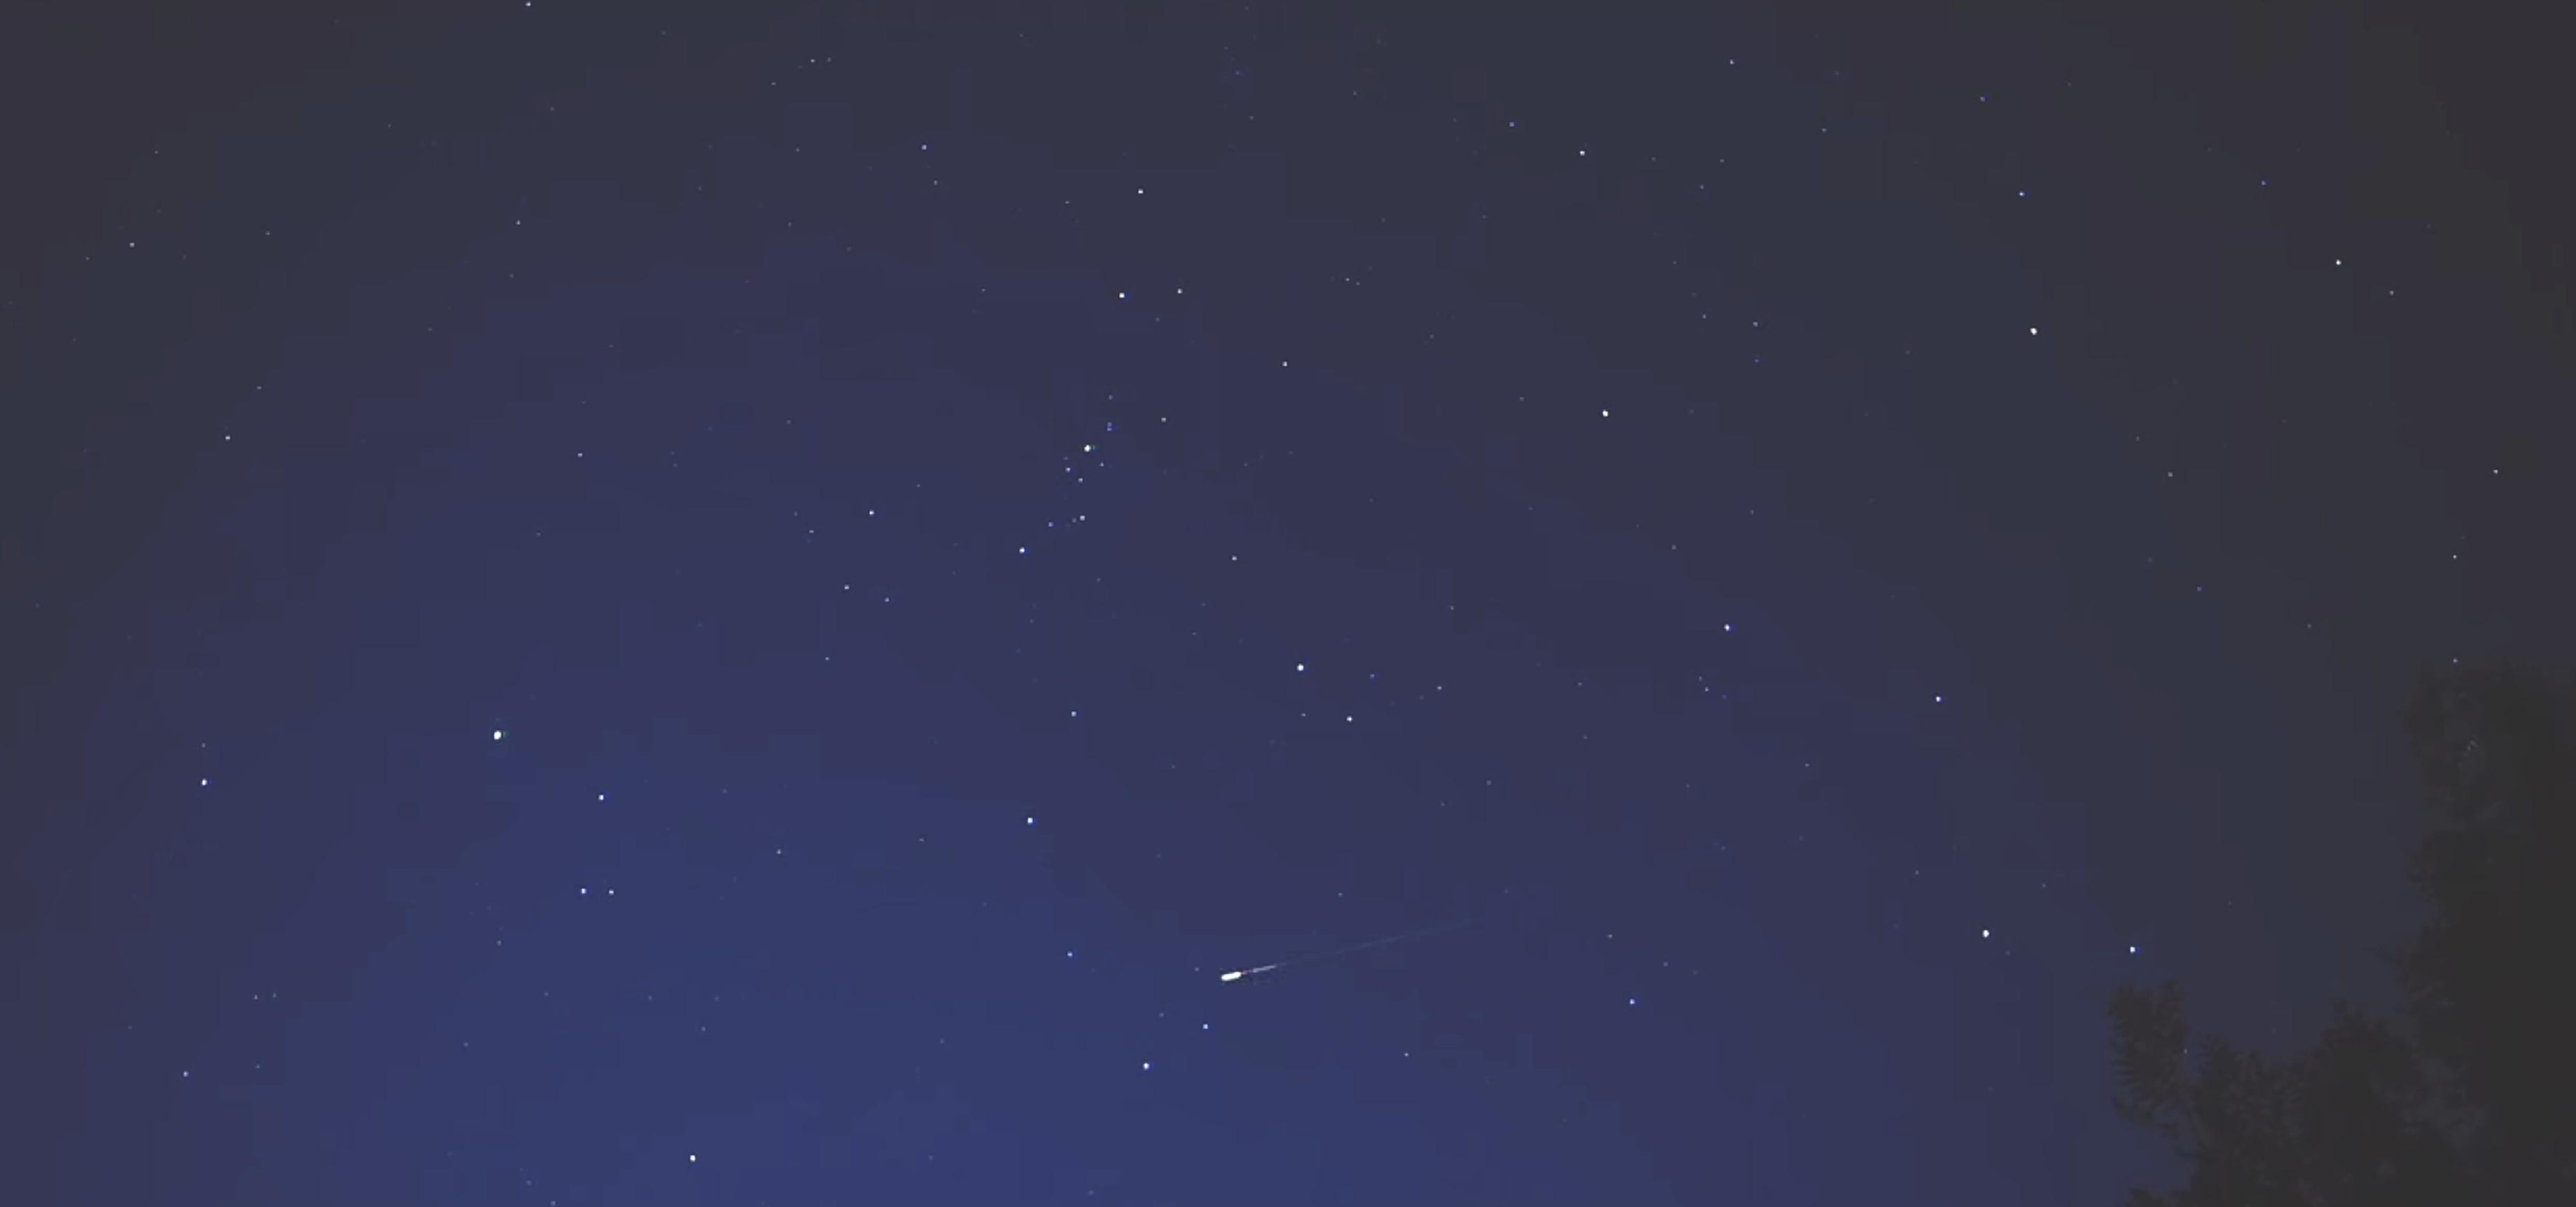meteorite: (1171, 903, 1451, 997)
